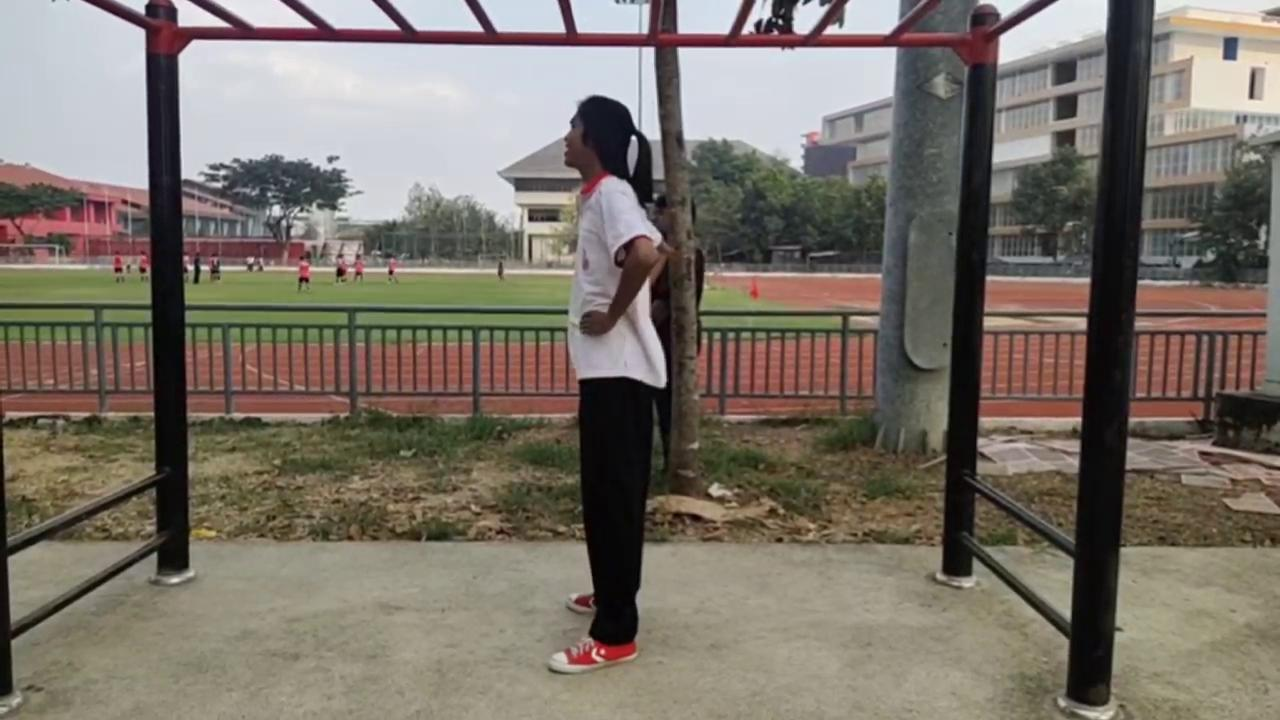squat up: (549, 97, 668, 675)
